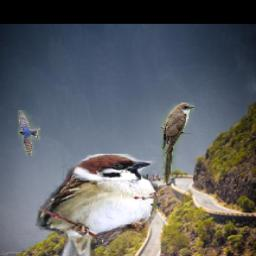Cuckoo: (161, 102, 194, 184)
Sparrow: (37, 155, 159, 256)
Swallow: (19, 110, 41, 156)
